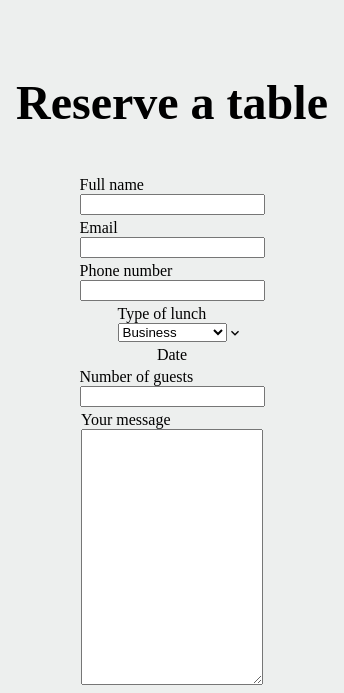
Test: wrong Email address
Note: enter email
Type "5" into the field with id "email" at x=172, y=248, box [80,237,264,258]
(page scrolled)
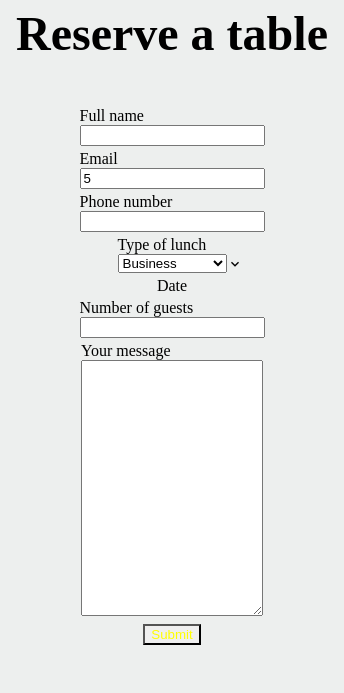
Note: click submit
Click the button with id "booking-submit" at x=172, y=635, box [143,624,201,645]
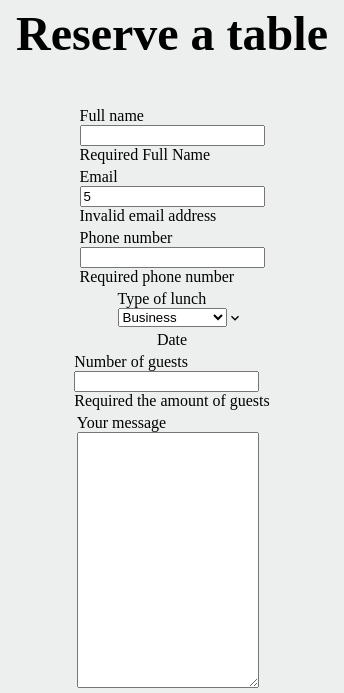
Expected: the text "Invalid email address" is shown, [80,207,216,224]
